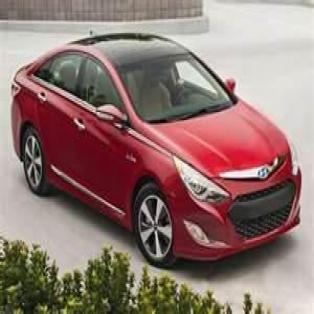Auto: (9, 32, 302, 266)
